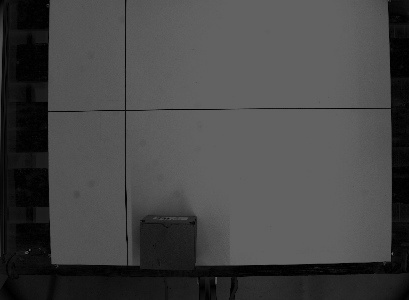b5: (136, 212, 199, 273)
